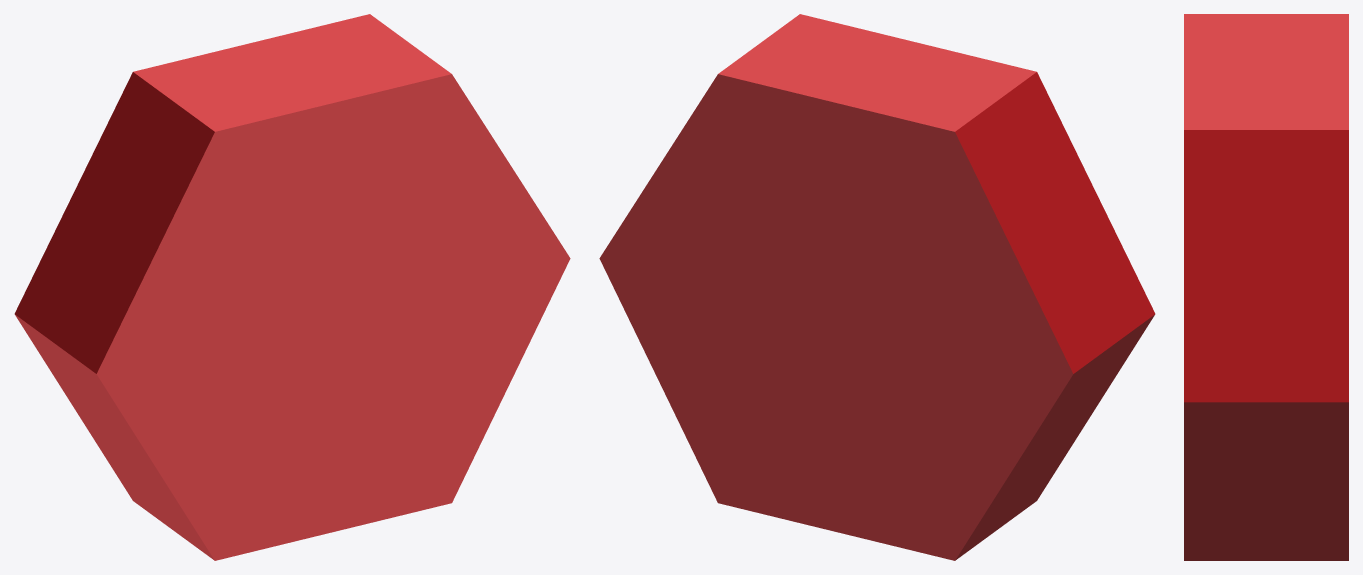
The picture shows the model from 3 angles, left to right: view 1: azimuth 30°, elevation 25°; view 2: azimuth 150°, elevation 25°; view 3: azimuth 270°, elevation 25°; orthographic projection.
Visible parts, largest first — view 1: ss3d_74; view 2: ss3d_74; view 3: ss3d_74.
Boxes of the visible parts, x1=… form: ss3d_74: x1=14, y1=14, x2=570, y2=560; ss3d_74: x1=599, y1=14, x2=1155, y2=560; ss3d_74: x1=1184, y1=14, x2=1348, y2=560.
Bounding box in the file's own units: 0.7031 × 0.6082 × 0.2109.
1 material, 1 textured.
